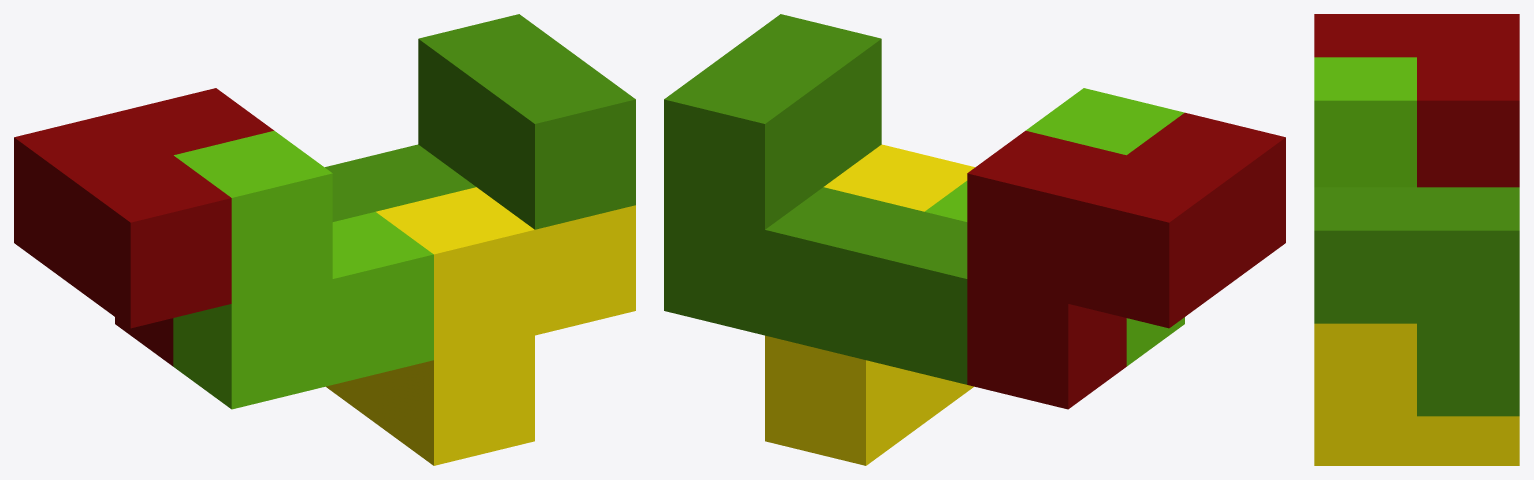
The picture shows the model from 3 angles, left to right: view 1: azimuth 30°, elevation 25°; view 2: azimuth 150°, elevation 25°; view 3: azimuth 270°, elevation 25°; orthographic projection. The views are drawn at different scales.
Visible parts, largest first — view 1: mergedBlocks(Clone); view 2: mergedBlocks(Clone); view 3: mergedBlocks(Clone).
Part boxes in pixels (left/top/right/bottom): mergedBlocks(Clone): left=14, top=14, right=635, bottom=465; mergedBlocks(Clone): left=664, top=14, right=1285, bottom=465; mergedBlocks(Clone): left=1314, top=14, right=1519, bottom=465.
Size of the model in its own units: 5 by 3 by 2.
Materials: 4 (4 with a texture image).
